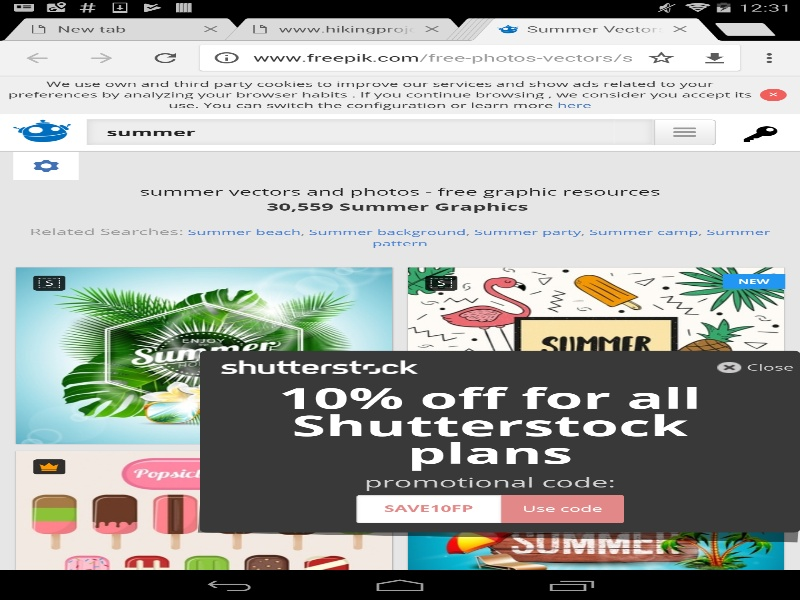Button: (5, 40, 69, 75), (69, 40, 133, 75), (133, 40, 197, 75), (742, 40, 800, 75), (634, 45, 688, 70), (200, 45, 253, 70), (688, 45, 741, 70), (613, 118, 653, 144)
Input: (86, 119, 653, 145), (253, 46, 634, 68)
